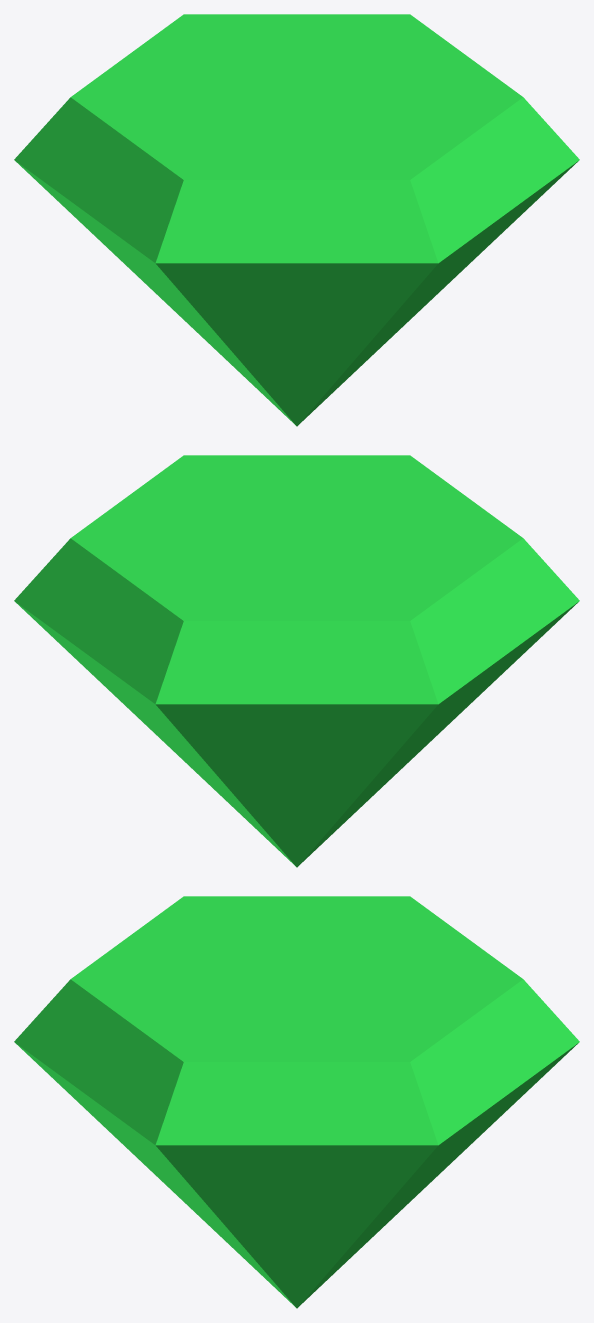
File: Gem3.fbx
The picture shows the model from 3 angles, top to bottom: view 1: azimuth 30°, elevation 25°; view 2: azimuth 150°, elevation 25°; view 3: azimuth 270°, elevation 25°; orthographic projection.
Parts seen in each view (by area): view 1: Gem3; view 2: Gem3; view 3: Gem3.
Boxes of the visible parts, <box> form: Gem3: <box>14,14,579,426</box>; Gem3: <box>14,455,579,867</box>; Gem3: <box>14,896,579,1308</box>.
Bounding box in the file's own units: 217 × 161 × 250.
